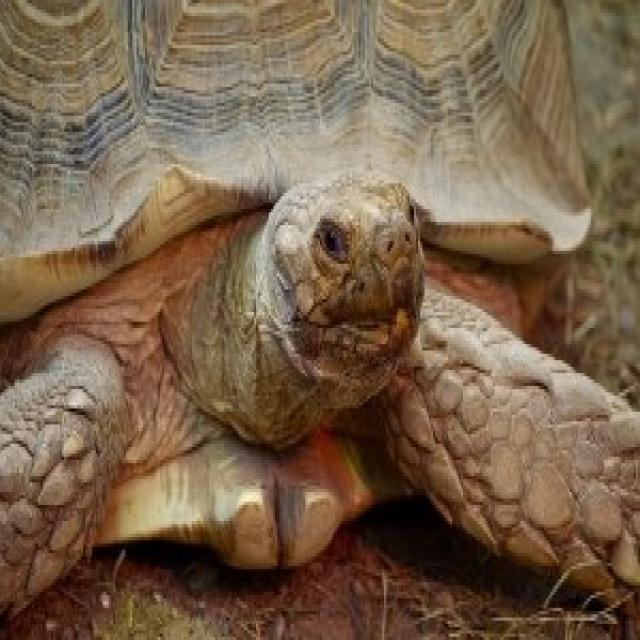Sea turtle: (0, 0, 639, 626)
